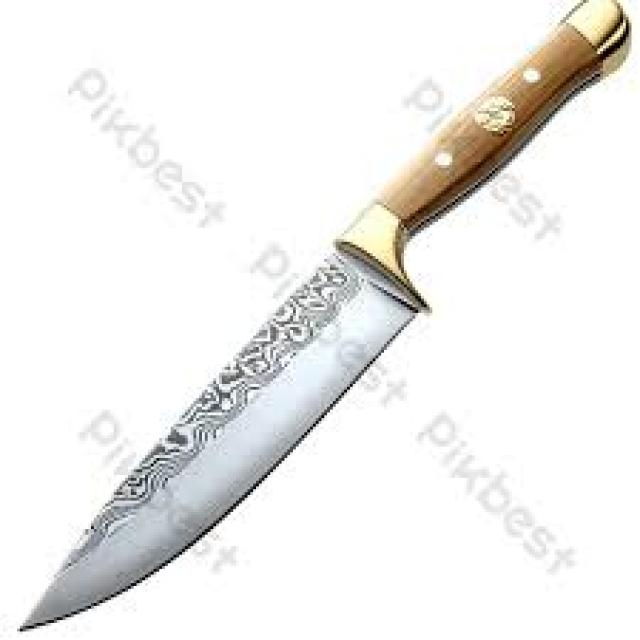Knife: (20, 0, 629, 629)
